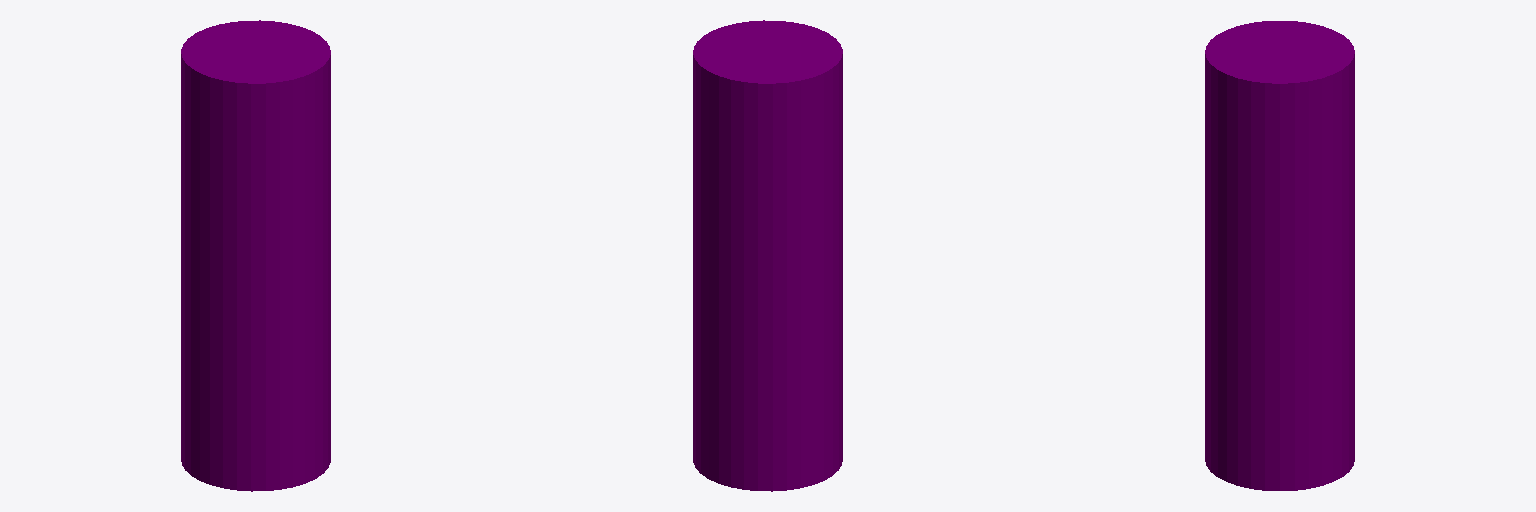
The robot description file, URDF, robot "imu_robot":
<?xml version="1.0"?>
<robot name="imu_robot">
  <link name="imu_link">
    <visual>
      <geometry>
        <!-- Cylinder: length = height (z-axis), radius = 0.05 -->
        <cylinder length="0.3" radius="0.05"/>
      </geometry>
      <material name="purple">
        <!-- RGBA for purple (red + blue) -->
        <color rgba="0.5 0.0 0.5 1.0"/>
      </material>
    </visual>
  </link>
</robot>

--- Facts derived from the render (not from the file) ---
3 views of the same robot in one strip: view 1: azimuth 30°, elevation 25°; view 2: azimuth 150°, elevation 25°; view 3: azimuth 270°, elevation 25° (orthographic).
Robot: imu_robot — 1 links, 0 joints (none); root link imu_link; default pose: all joints at 0.
Links seen in each view (by area): view 1: imu_link; view 2: imu_link; view 3: imu_link.
Link boxes in pixels (<box>): imu_link: <box>181,20,330,491</box>; imu_link: <box>693,20,842,491</box>; imu_link: <box>1205,21,1354,490</box>.
Size in the robot's own frame: 0.1 by 0.1 by 0.3 metres.
Geometry: primitives only (box / cylinder / sphere), no mesh files.